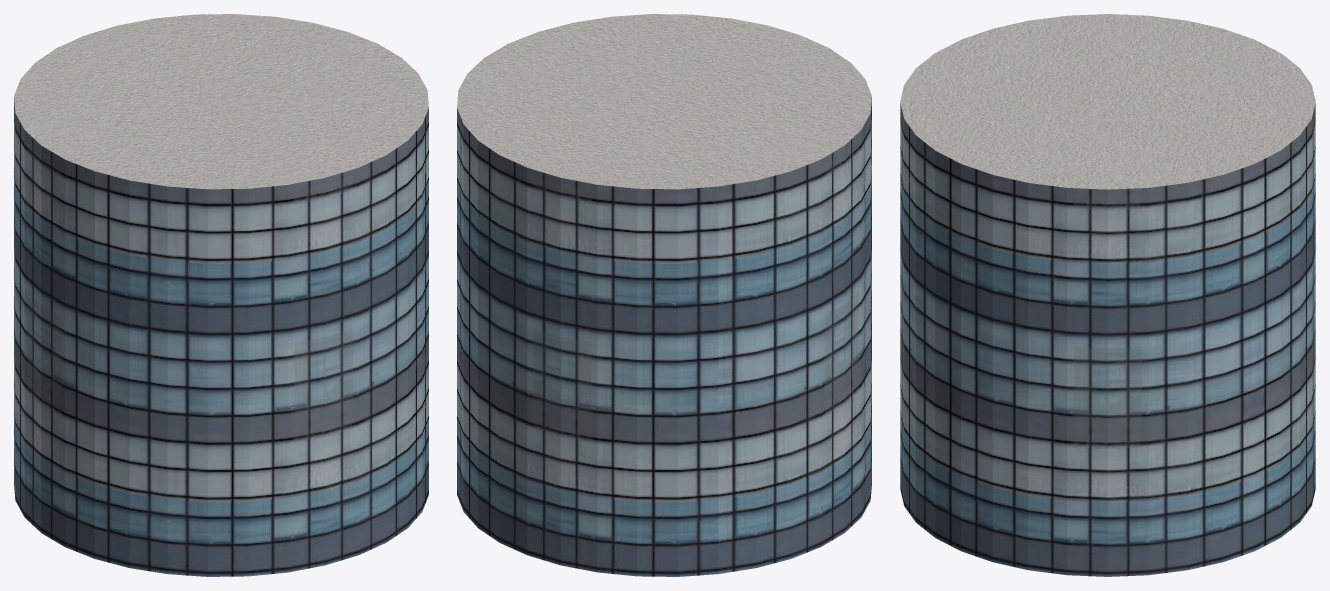
Rendered from building_056.fbx.
3 renders of one model, left to right at view 1: azimuth 30°, elevation 25°; view 2: azimuth 150°, elevation 25°; view 3: azimuth 270°, elevation 25°, orthographic.
Visible parts, largest first — view 1: building_056; view 2: building_056; view 3: building_056.
Part boxes in pixels (x1,y1,x2,y2): building_056: (14, 14, 428, 576); building_056: (457, 14, 871, 576); building_056: (900, 14, 1315, 576).
Size of the model in its own units: 1750 by 1800 by 1750.
